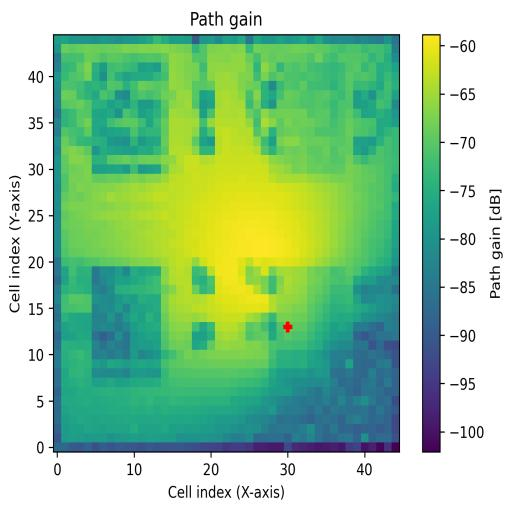Concrete: (270, 54, 369, 164)
Glass: (92, 53, 169, 174)
Metal: (268, 265, 352, 390)
Wood: (92, 267, 162, 378)
